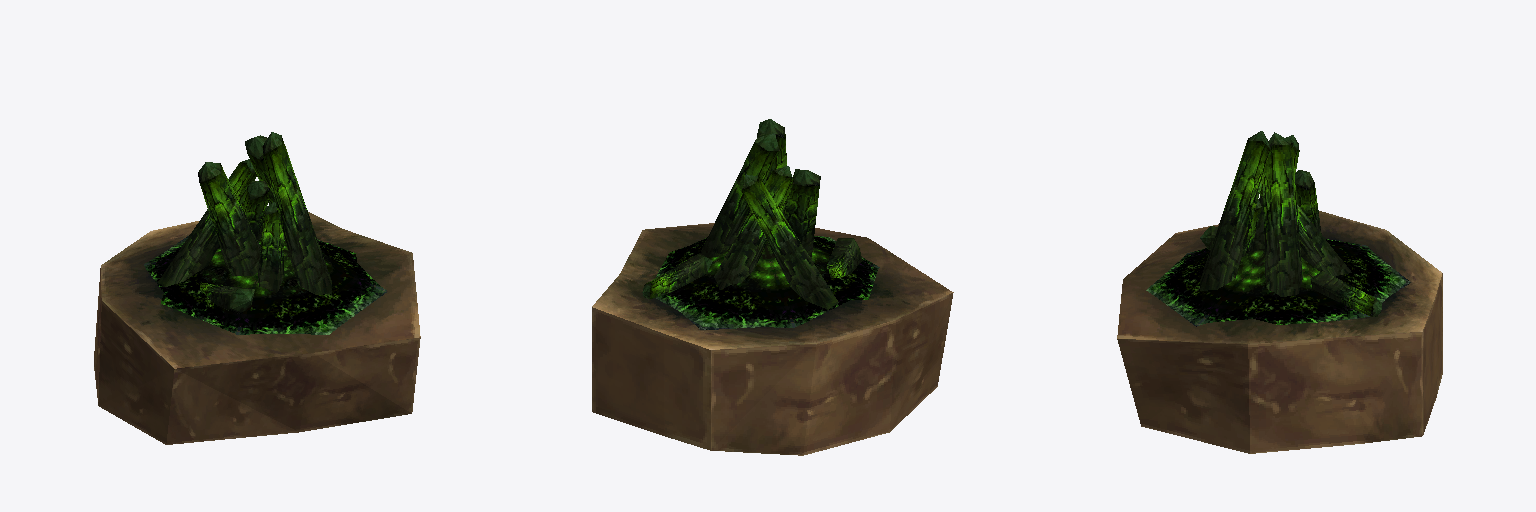
3 renders of one model, left to right at view 1: azimuth 30°, elevation 25°; view 2: azimuth 150°, elevation 25°; view 3: azimuth 270°, elevation 25°, orthographic.
Visible parts, largest first — view 1: world/expansion01/doodads/generic/ogre/fires/om_campfire_01_noco; view 2: world/expansion01/doodads/generic/ogre/fires/om_campfire_01_noco; view 3: world/expansion01/doodads/generic/ogre/fires/om_campfire_01_noco.
Boxes of the visible parts, box(x1,y1,x2,y2) form: world/expansion01/doodads/generic/ogre/fires/om_campfire_01_noco: box(94, 132, 420, 444); world/expansion01/doodads/generic/ogre/fires/om_campfire_01_noco: box(592, 119, 953, 455); world/expansion01/doodads/generic/ogre/fires/om_campfire_01_noco: box(1117, 131, 1442, 453).
Size of the model in its own units: 2.07 by 1.81 by 2.07.
2 materials, 1 textured.